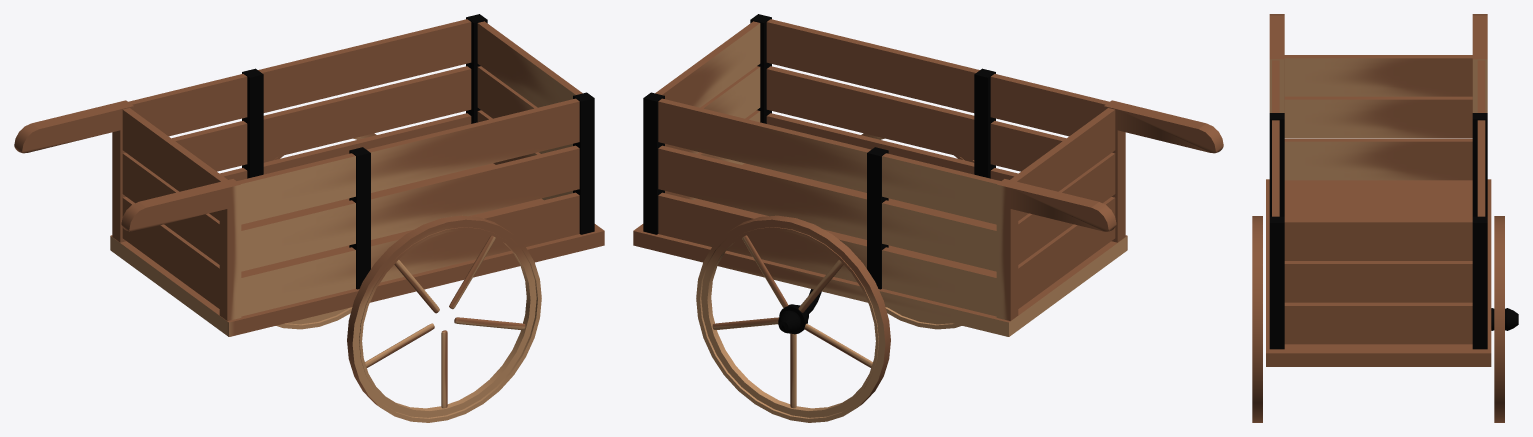
Rendered from cart.fbx.
3 renders of one model, left to right at view 1: azimuth 30°, elevation 25°; view 2: azimuth 150°, elevation 25°; view 3: azimuth 270°, elevation 25°, orthographic. The views are drawn at different scales.
Parts seen in each view (by area): view 1: Cube.075, Cylinder.052; view 2: Cube.075, Cylinder.052; view 3: Cube.075, Cylinder.052.
Part boxes in pixels (box(x1,y1,x2,y2)): Cube.075: box(14, 14, 604, 336); Cylinder.052: box(263, 133, 541, 422); Cube.075: box(633, 14, 1223, 336); Cylinder.052: box(696, 133, 974, 422); Cube.075: box(1266, 14, 1518, 366); Cylinder.052: box(1252, 216, 1504, 422).
Size of the model in its own units: 289 by 162 by 149.
Materials: 2 (1 with a texture image).
